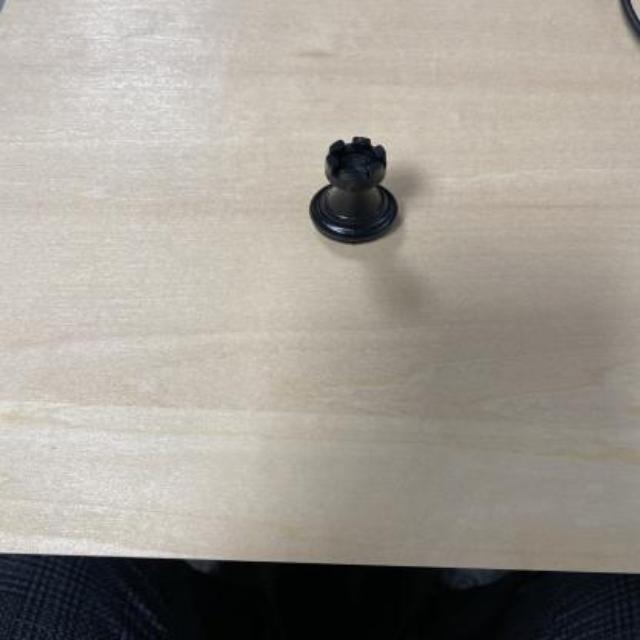black-rook: (305, 134, 398, 246)
